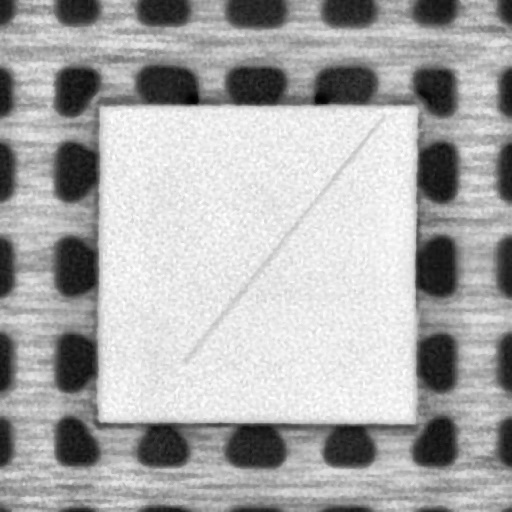DIE_CRACK: (183, 111, 382, 362)
